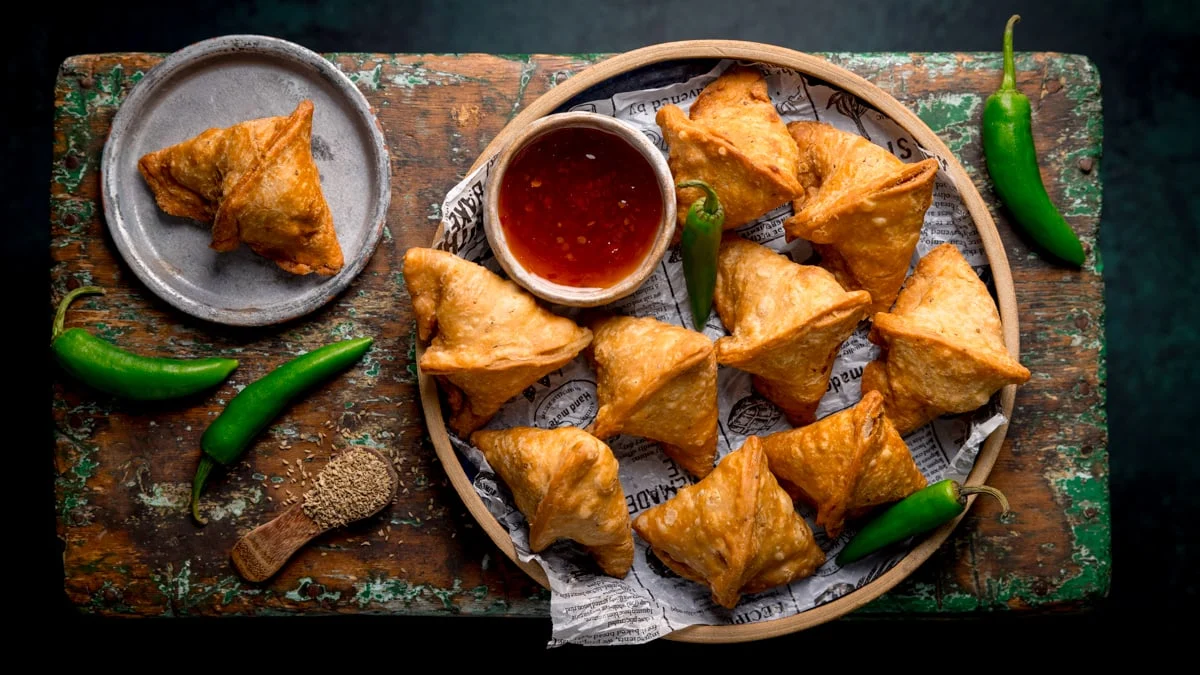samosa: (135, 92, 340, 288), (385, 242, 590, 417), (643, 443, 820, 625), (782, 117, 937, 312), (472, 418, 648, 578), (718, 240, 865, 427), (867, 247, 1025, 418), (655, 60, 802, 232), (767, 387, 932, 522), (595, 317, 725, 468)
